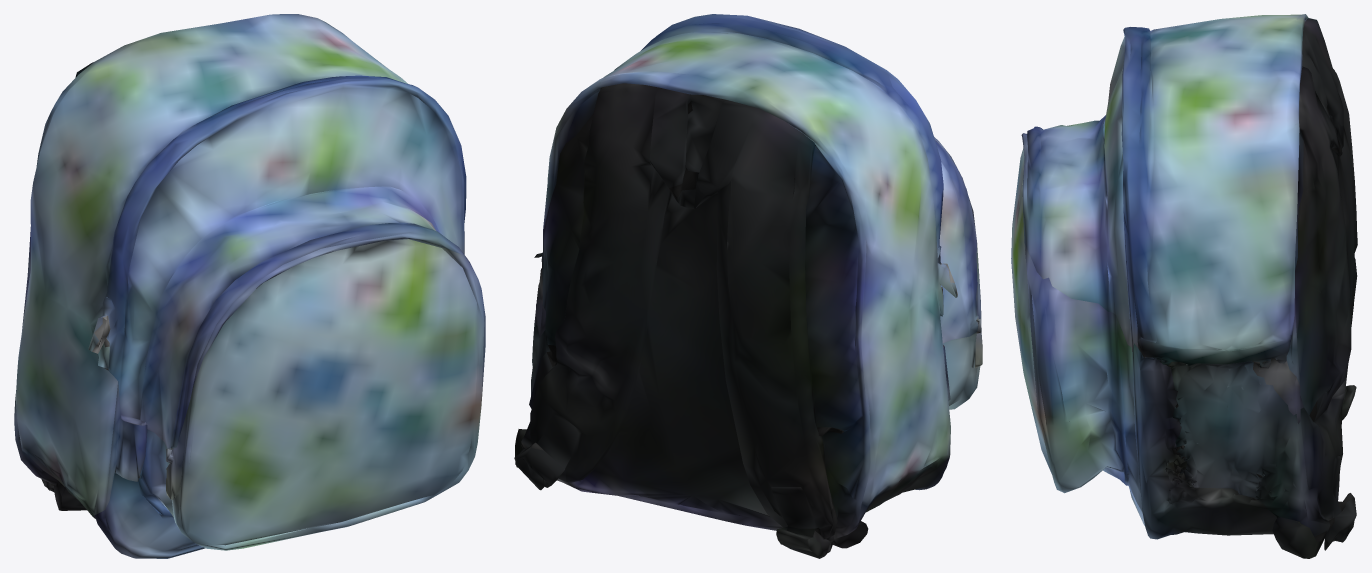
Rendered from Olive_Kids_Dinosaur_Land_Pack_n_Snack-medium.glb.
3 views of the same model, side by side, from view 1: azimuth 30°, elevation 25°; view 2: azimuth 150°, elevation 25°; view 3: azimuth 270°, elevation 25° (orthographic). The views are drawn at different scales.
Parts seen in each view (by area): view 1: Olive_Kids_Dinosaur_Land_Pack_n_Snack; view 2: Olive_Kids_Dinosaur_Land_Pack_n_Snack; view 3: Olive_Kids_Dinosaur_Land_Pack_n_Snack.
Part boxes in pixels (x1=…): Olive_Kids_Dinosaur_Land_Pack_n_Snack: x1=14, y1=14, x2=485, y2=558; Olive_Kids_Dinosaur_Land_Pack_n_Snack: x1=514, y1=14, x2=982, y2=558; Olive_Kids_Dinosaur_Land_Pack_n_Snack: x1=1011, y1=14, x2=1357, y2=558.
Size of the model in its own units: 0.2874 by 0.3143 by 0.2304.
1 material, 1 textured.
